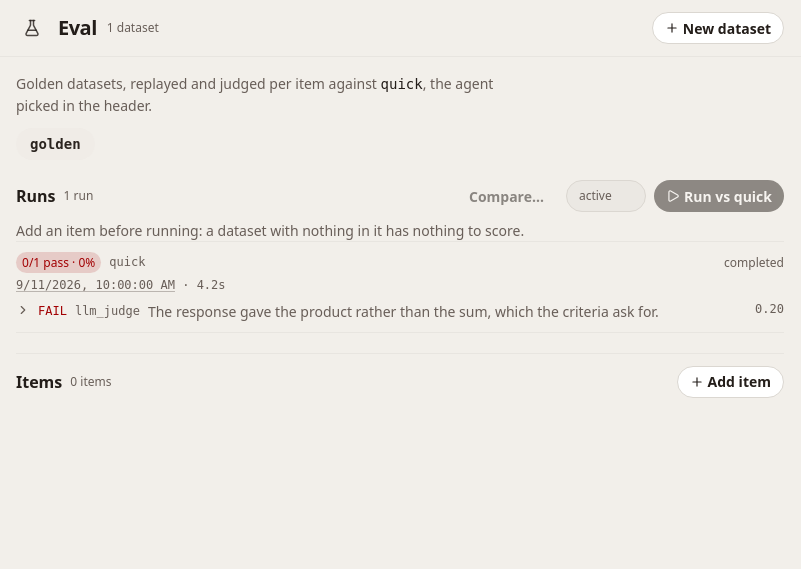
a run says what it did › expands the judge reason instead of hiding it in a tooltip
The width and height of the screenshot is (801, 569).
Expected: the text "Why the judge said fail" is not shown
Click the button "fail".
click(400, 311)  # box [16,301,784,322]
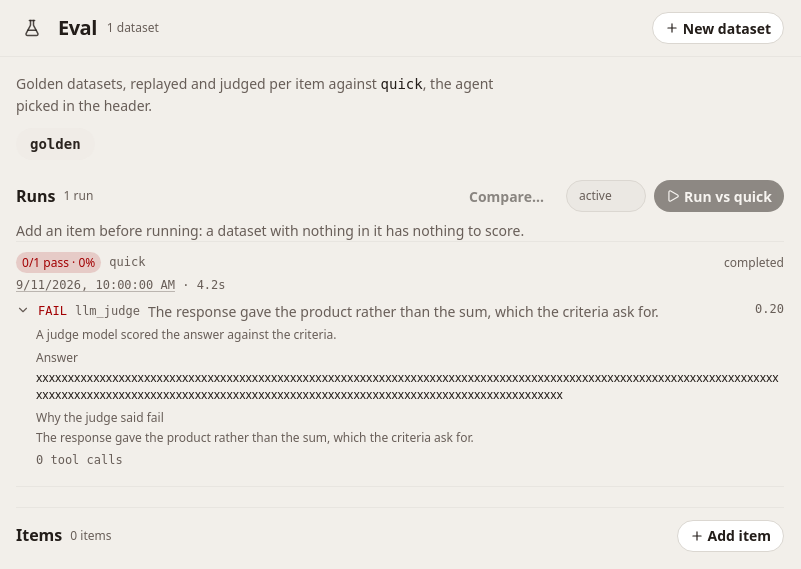
Expected: the 1st text "The response gave the product rather than the sum, which the criteria ask for." is shown, [148,301,747,322]
Expected: the text "Why the judge said fail" is shown, [36,409,164,426]
